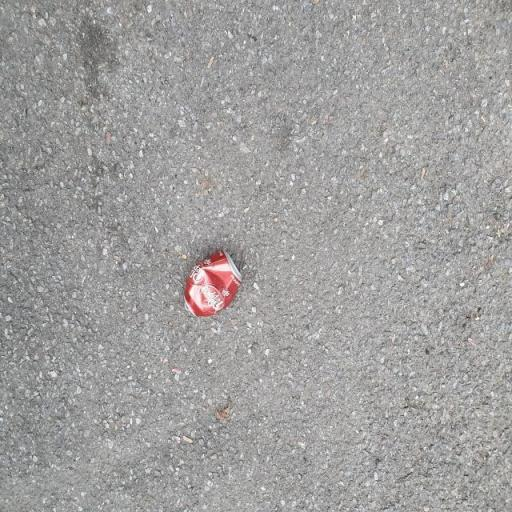metal: (170, 237, 258, 344)
